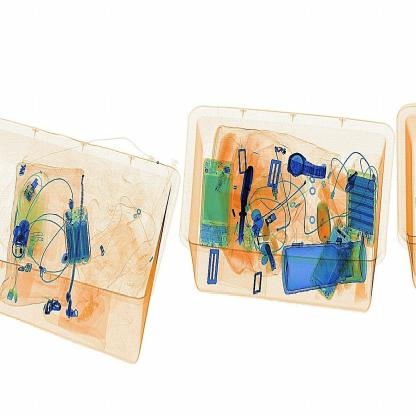gun: (232, 149, 262, 249)
